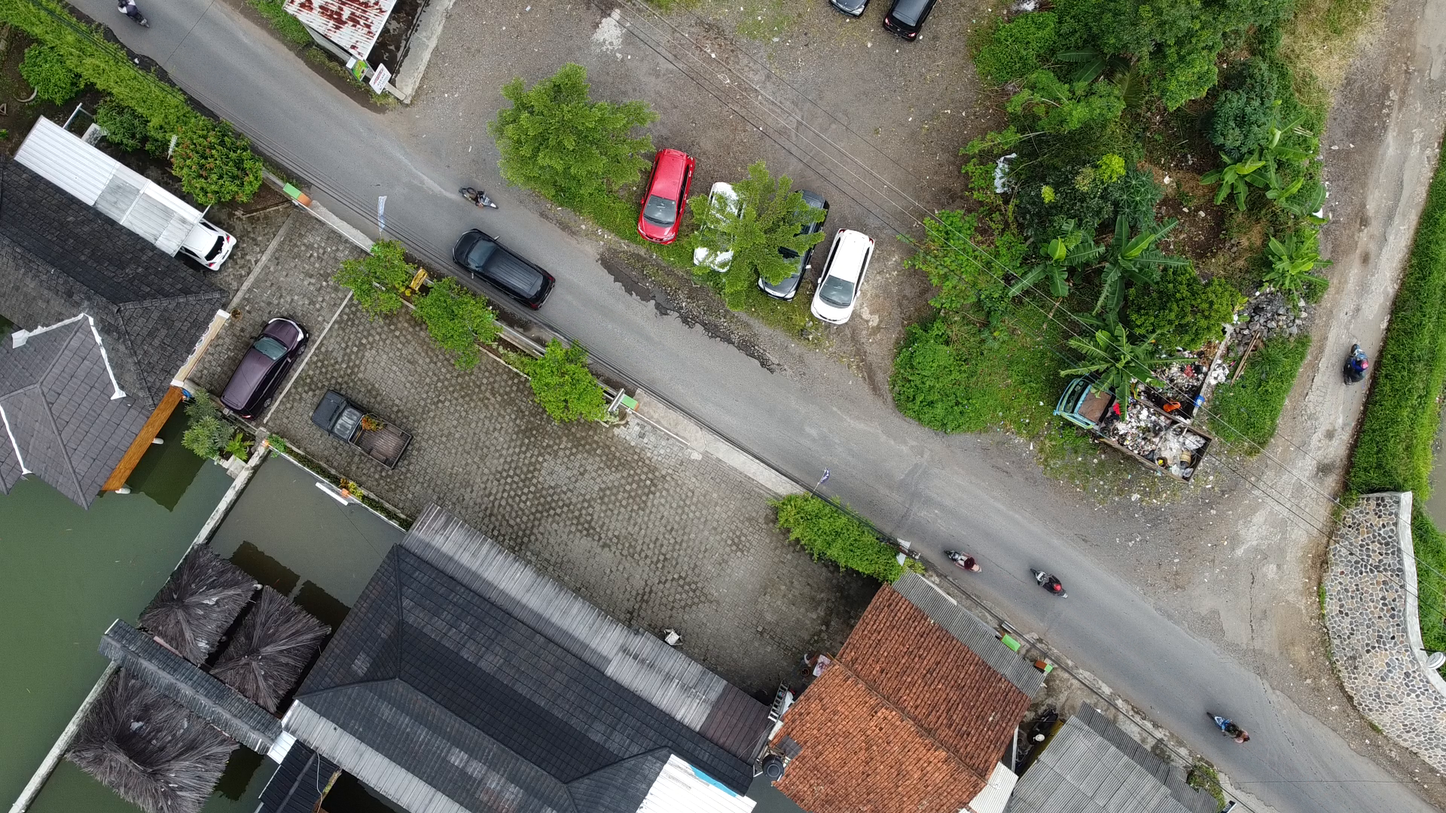mobil: (437, 213, 575, 315), (217, 311, 322, 417), (294, 389, 426, 473), (757, 169, 836, 305), (819, 206, 880, 349), (624, 140, 697, 245), (697, 165, 749, 285), (172, 215, 244, 269), (871, 3, 938, 51)
